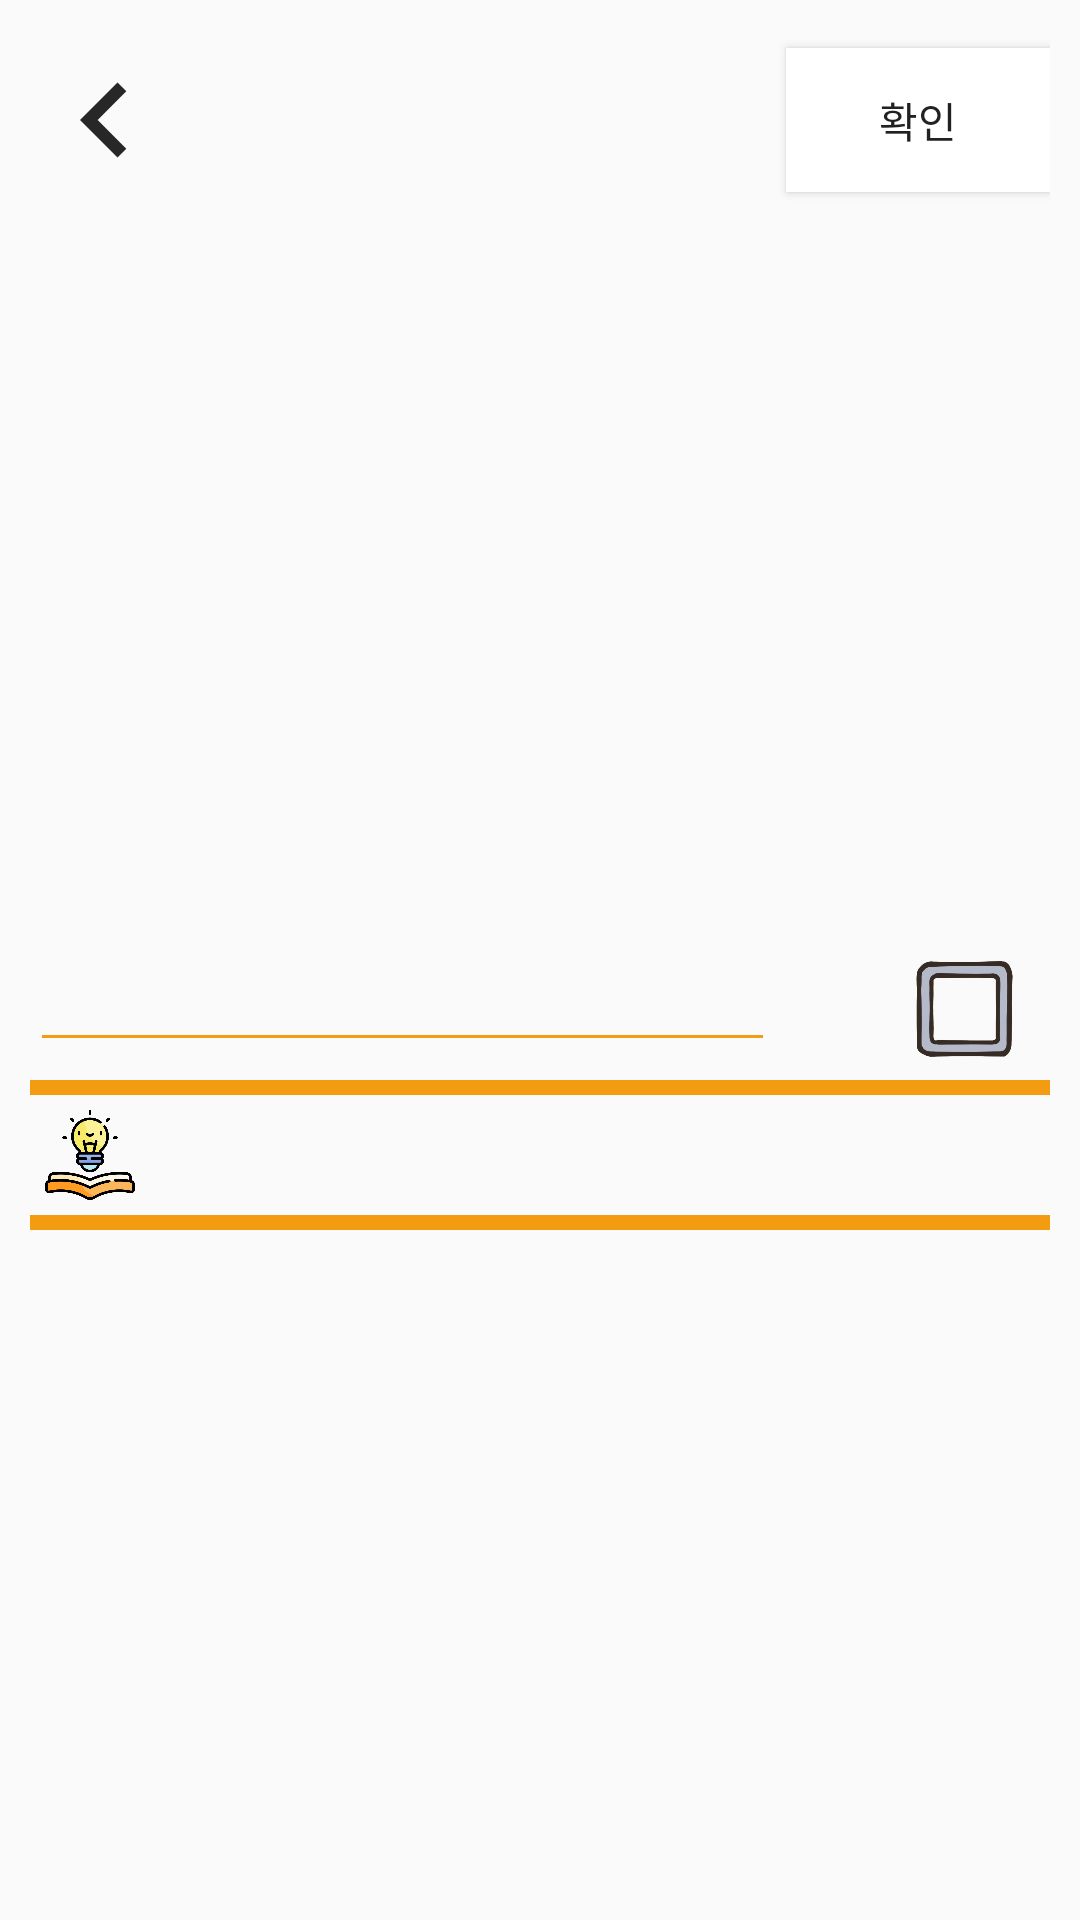

Locate icon controls on the screen. Image size 1080x1920, boxes as (left=x1, top=y1, right=x2, bottom=y2).
chevron left: (left=80, top=82, right=126, bottom=158)
knowledge: (left=45, top=1110, right=135, bottom=1200)
unchecked: (left=916, top=961, right=1013, bottom=1057)
